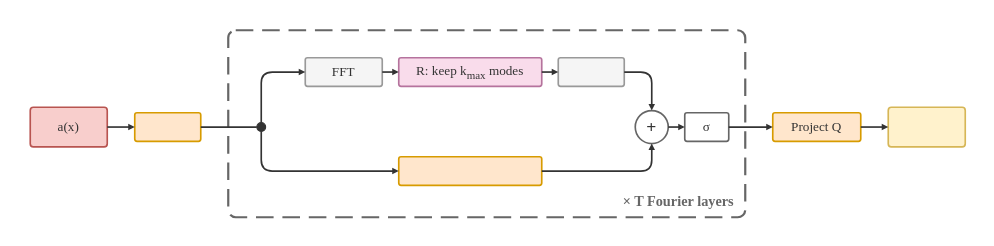
The diagram is 994 pixels wide and 246 high, and some of its shapes have lost their labels. Here are the shapes that lost their labels. From the top down, the centre of each, then its label:
At pixel 591 71: "IFFT".
At pixel 167 126: "Lift P".
At pixel 926 126: "u(x)".
At pixel 469 170: "W: local linear".
